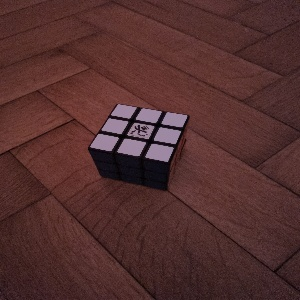cube: (88, 104, 190, 192)
